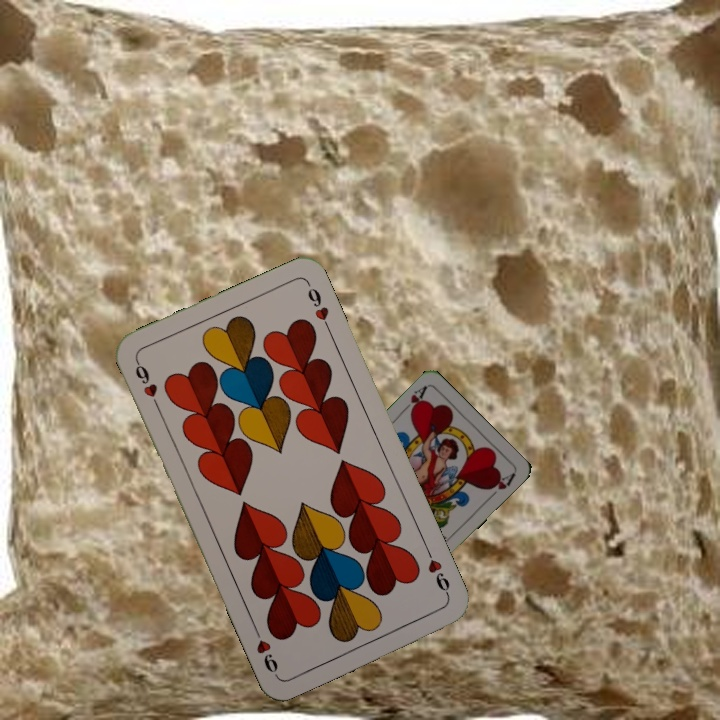H9: (131, 356, 162, 412), (422, 544, 453, 600)
HA: (398, 382, 430, 417)
